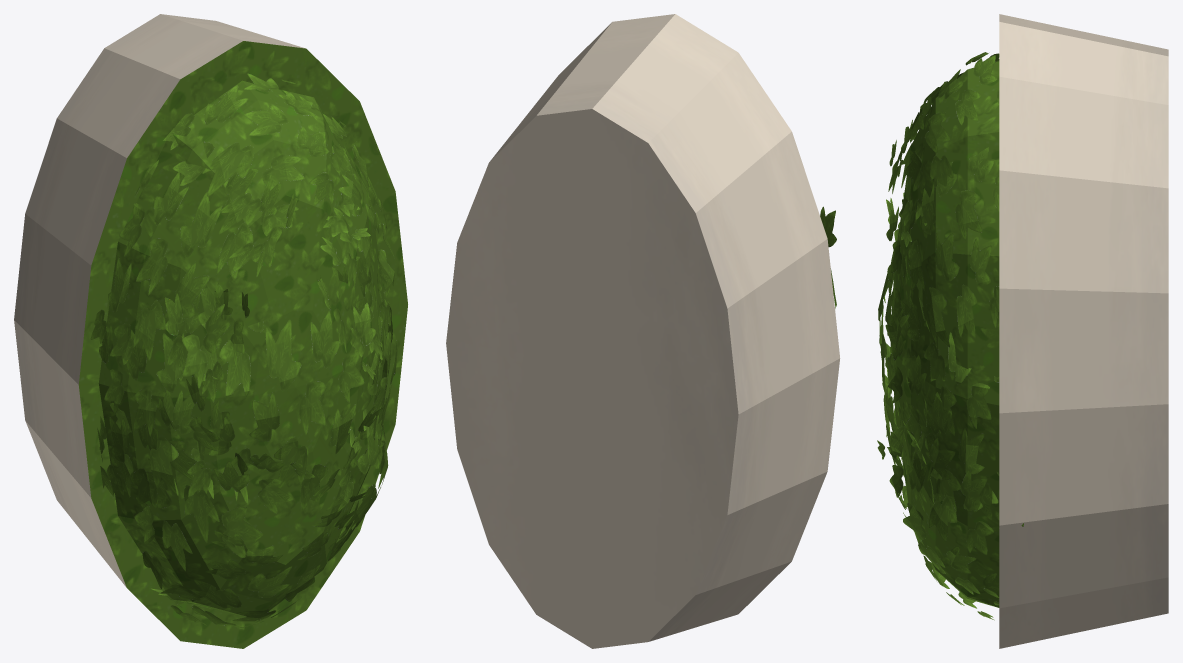
The model's file is GranitePot.fbx.
3 views of the same model, side by side, from view 1: azimuth 30°, elevation 25°; view 2: azimuth 150°, elevation 25°; view 3: azimuth 270°, elevation 25° (orthographic).
Parts seen in each view (by area): view 1: DarkBushes; view 2: DarkBushes; view 3: DarkBushes.
Boxes of the visible parts, <box> form: DarkBushes: <box>14,14,407,648</box>; DarkBushes: <box>446,14,840,648</box>; DarkBushes: <box>877,14,1168,648</box>.
Size of the model in its own units: 2.51 by 4.42 by 1.94.
Materials: 1 (1 with a texture image).
